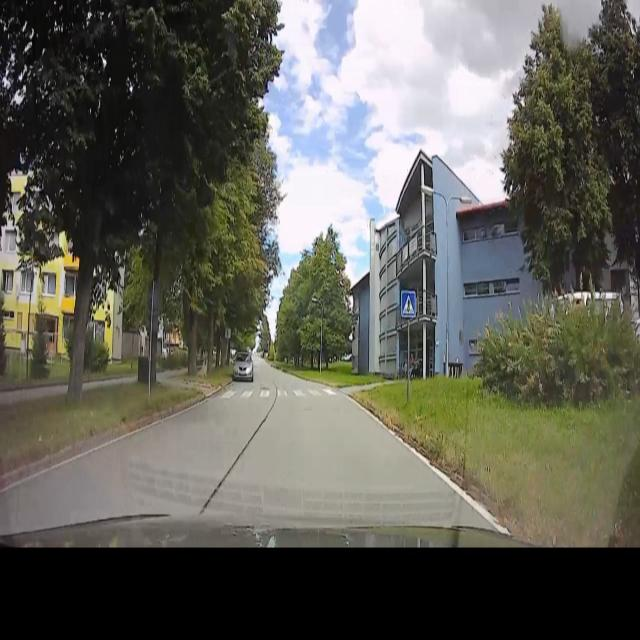Pedestrian crosswalk: (399, 289, 418, 320)
